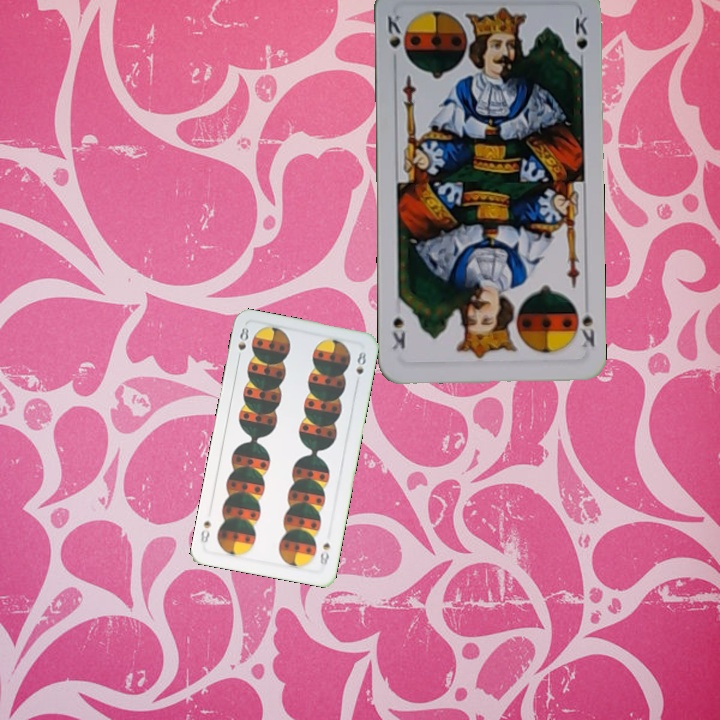S8: (234, 323, 251, 363), (316, 538, 333, 570)
SK: (570, 297, 598, 350), (383, 11, 404, 68)
